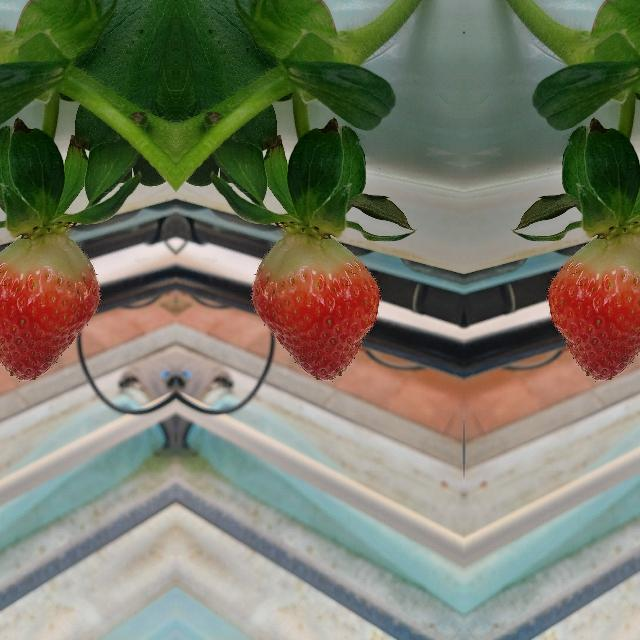Health_100: (250, 235, 382, 382), (0, 234, 100, 381), (543, 234, 640, 381)
